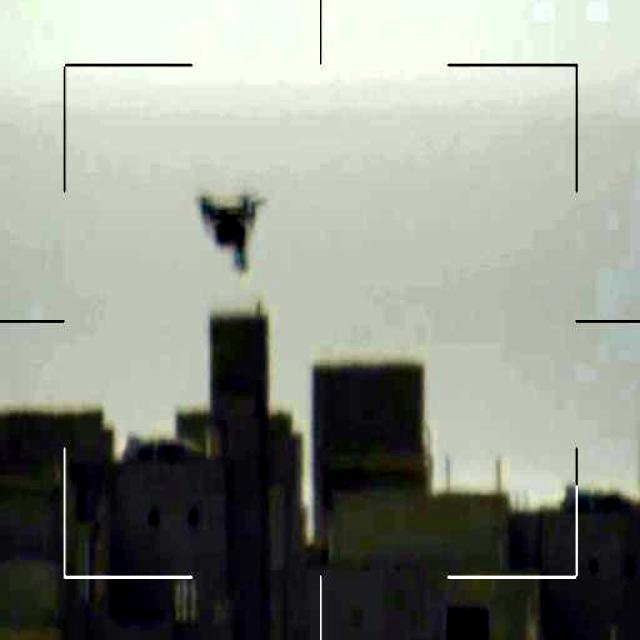bird: (190, 181, 268, 271)
